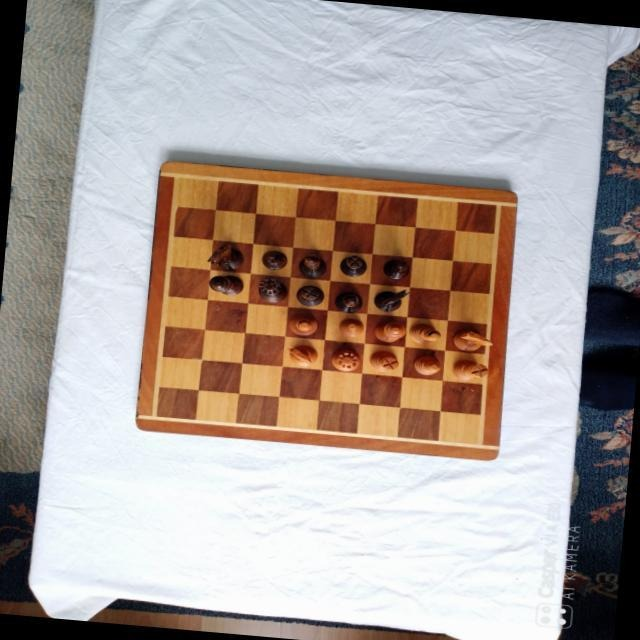black-bishop: (332, 288, 364, 314), (296, 252, 327, 278)
black-king: (206, 271, 245, 296)
black-knight: (204, 239, 243, 270), (371, 284, 410, 313)
black-pawn: (381, 257, 411, 279), (260, 247, 288, 269)
black-queen: (256, 275, 288, 304)
black-rook: (294, 282, 326, 307), (337, 252, 367, 276)
white-bishop: (407, 319, 441, 345), (287, 311, 319, 337)
white-king: (371, 317, 407, 343)
white-knight: (451, 327, 493, 352), (283, 341, 318, 367)
white-pawn: (412, 351, 444, 376), (335, 315, 365, 337)
white-queen: (329, 347, 363, 373)
white-rook: (450, 355, 489, 380), (367, 347, 401, 372)
